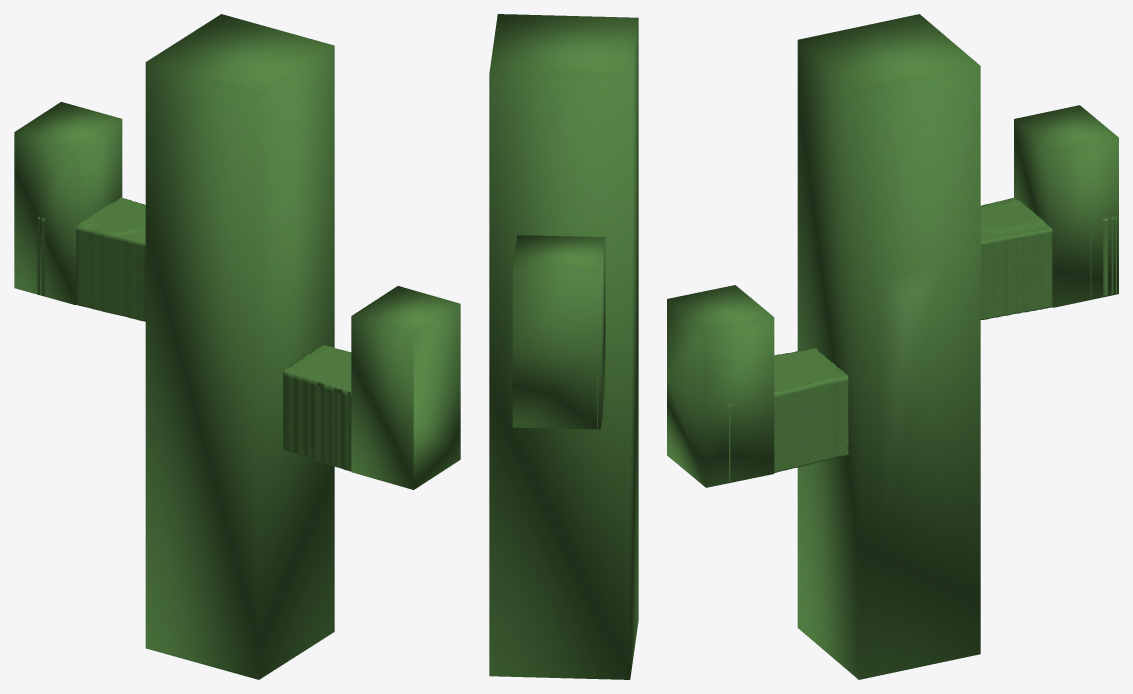
File: 091ab752-ccfb-4991-83a5-de267720a9ef_model.glb
3 views of the same model, side by side, from view 1: azimuth 30°, elevation 25°; view 2: azimuth 150°, elevation 25°; view 3: azimuth 270°, elevation 25° (orthographic). The views are drawn at different scales.
Visible parts, largest first — view 1: tripo_node_091ab752-ccfb-4991-83a5-de267720a9ef; view 2: tripo_node_091ab752-ccfb-4991-83a5-de267720a9ef; view 3: tripo_node_091ab752-ccfb-4991-83a5-de267720a9ef.
Boxes of the visible parts, bbox=[...] form: tripo_node_091ab752-ccfb-4991-83a5-de267720a9ef: bbox=[14, 14, 460, 679]; tripo_node_091ab752-ccfb-4991-83a5-de267720a9ef: bbox=[489, 14, 638, 679]; tripo_node_091ab752-ccfb-4991-83a5-de267720a9ef: bbox=[667, 14, 1118, 679].
Size of the model in its own units: 0.3017 by 0.65 by 0.4526.
Materials: 1 (1 with a texture image).
